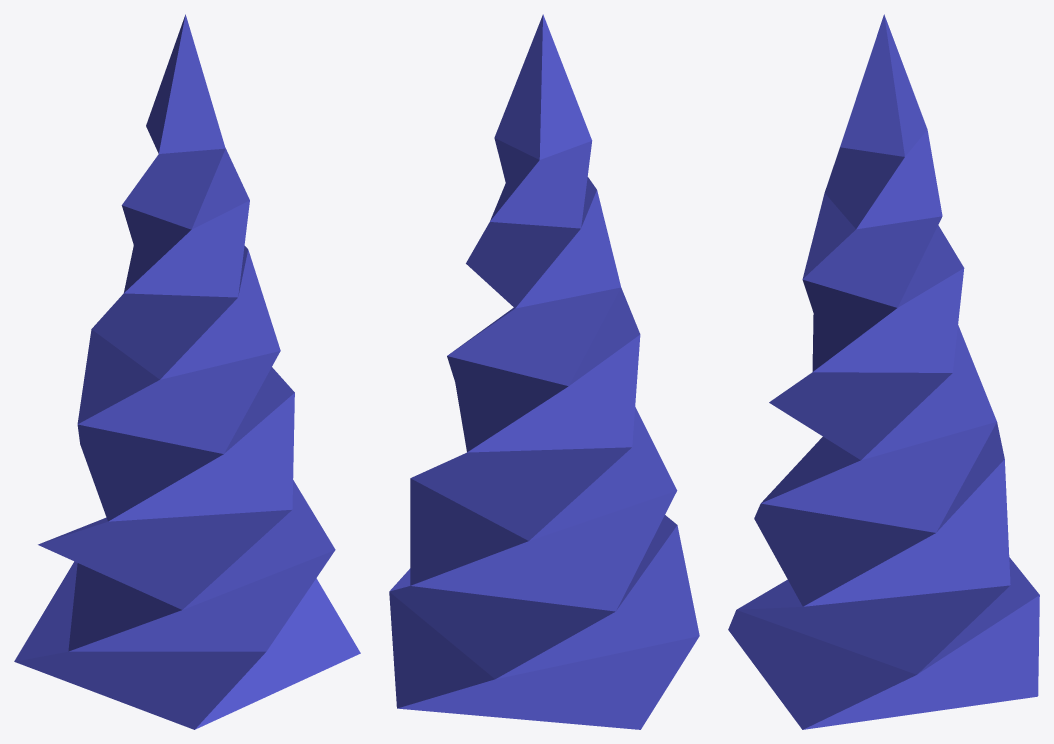
The model's file is Horn.fbx.
The picture shows the model from 3 angles, left to right: view 1: azimuth 30°, elevation 25°; view 2: azimuth 150°, elevation 25°; view 3: azimuth 270°, elevation 25°; orthographic projection.
Visible parts, largest first — view 1: Horn; view 2: Horn; view 3: Horn.
Part boxes in pixels (<box>): Horn: <box>14,14,360,729</box>; Horn: <box>389,14,699,729</box>; Horn: <box>728,14,1039,729</box>.
Bounding box in the file's own units: 13.26 × 30.12 × 13.1.
